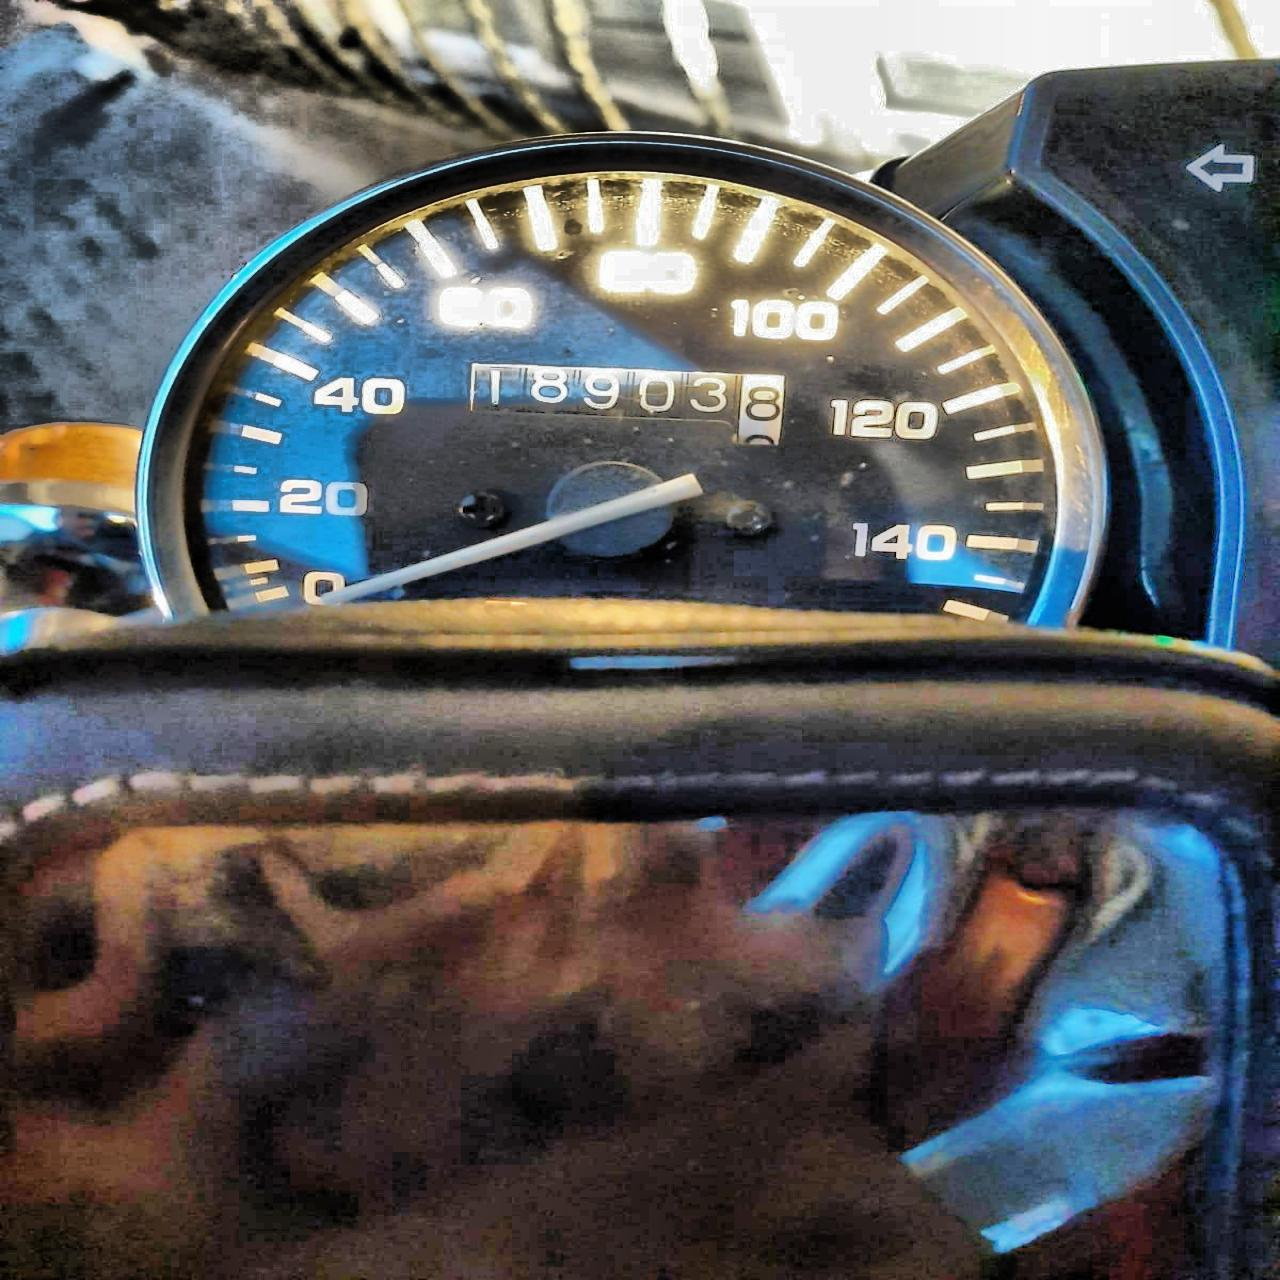0: (635, 374, 674, 414)
1: (486, 367, 504, 406)
3: (689, 377, 729, 412)
8: (742, 384, 788, 423), (529, 366, 570, 404)
9: (580, 370, 622, 410)
odometer: (461, 354, 805, 456)
